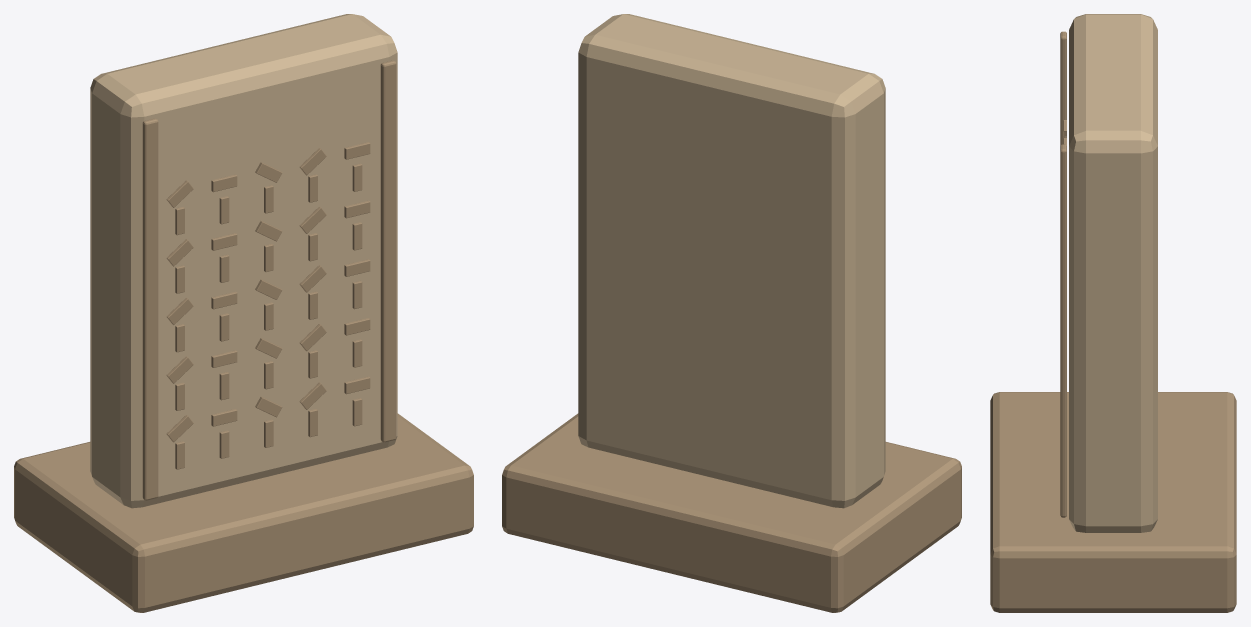
The model's file is inscribed-stele.glb.
3 renders of one model, left to right at view 1: azimuth 30°, elevation 25°; view 2: azimuth 150°, elevation 25°; view 3: azimuth 270°, elevation 25°, orthographic. The views are drawn at different scales.
Visible parts, largest first — view 1: Carved slab, Stele base, Border, Border.001; view 2: Carved slab, Stele base; view 3: Carved slab, Stele base, Border.001, Border.
Boxes of the visible parts, bbox=[...] form: Carved slab: bbox=[90, 14, 397, 508]; Stele base: bbox=[14, 413, 473, 612]; Border: bbox=[142, 118, 158, 500]; Border.001: bbox=[380, 60, 396, 442]; Carved slab: bbox=[578, 14, 885, 508]; Stele base: bbox=[502, 413, 961, 612]; Carved slab: bbox=[1069, 14, 1157, 532]; Stele base: bbox=[990, 392, 1236, 612]; Border.001: bbox=[1060, 144, 1066, 517]; Border: bbox=[1060, 31, 1066, 145].
Bounding box in the file's own units: 1.46 × 1.95 × 0.94.
